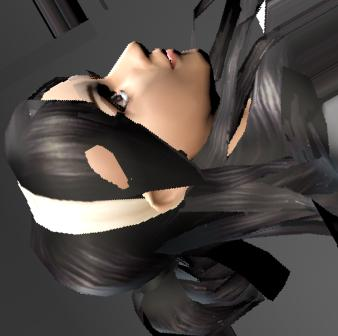clip: (83, 141, 128, 173)
